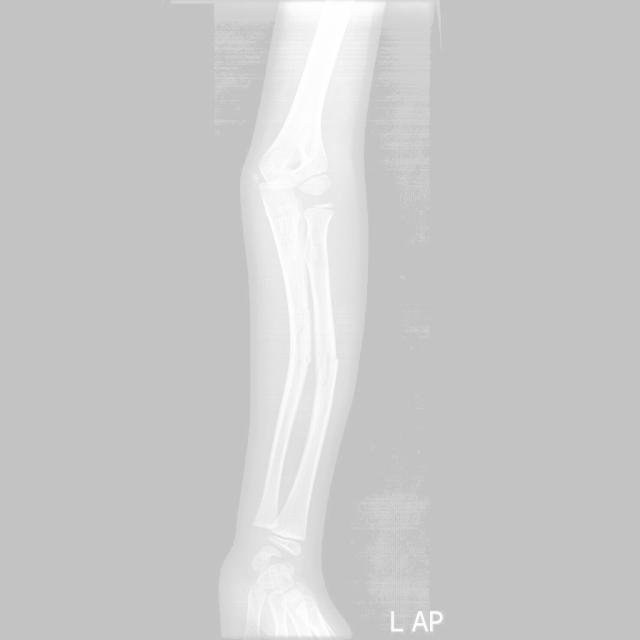GreenStick Fracture: (284, 329, 314, 375), (315, 342, 348, 379)
